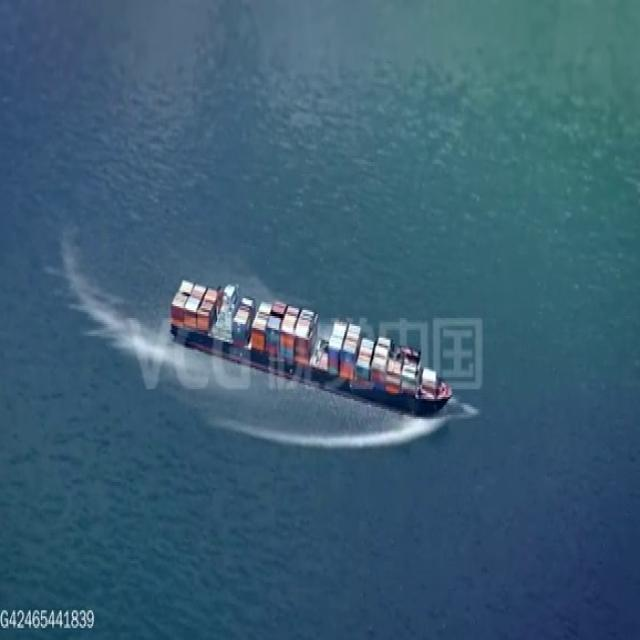cargoship: (168, 273, 452, 417)
